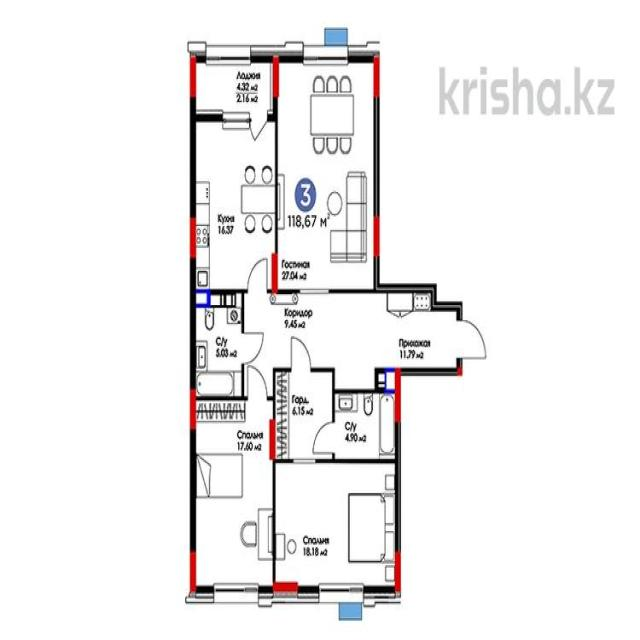balcony: (192, 54, 276, 116)
bathroom: (189, 290, 244, 399), (334, 392, 399, 458)
hallway: (244, 292, 378, 368), (378, 290, 460, 370)
kitchen: (192, 118, 276, 288)
living_room: (274, 52, 376, 292), (275, 461, 398, 594), (194, 398, 276, 592)
other: (274, 368, 335, 458)
